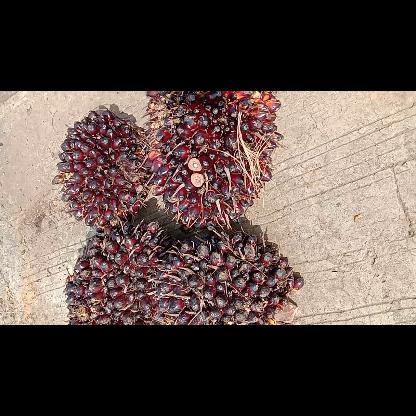TBS mentah: (143, 91, 285, 235), (155, 228, 304, 324), (49, 107, 153, 232), (60, 220, 184, 324)
